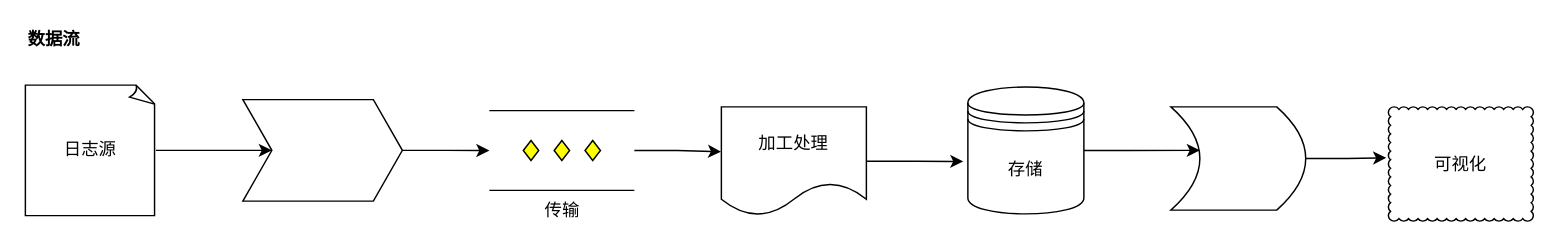
Some shapes in this 1559 by 247 pixel diagram are drawn without their labels. Here are the shapes that lost their labels. From the top down, the centre of each, then its label:
At [321,149]: "日志采集".
At [1237,157]: "数据分析".
